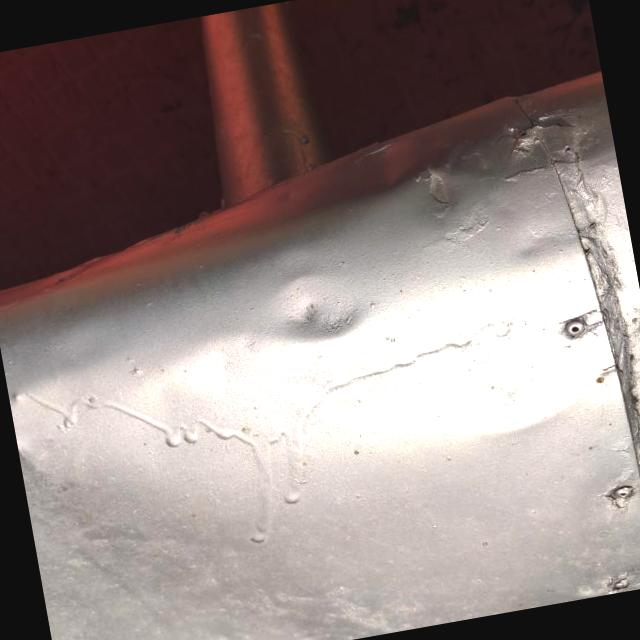dent: (342, 104, 514, 264), (245, 228, 398, 392)
